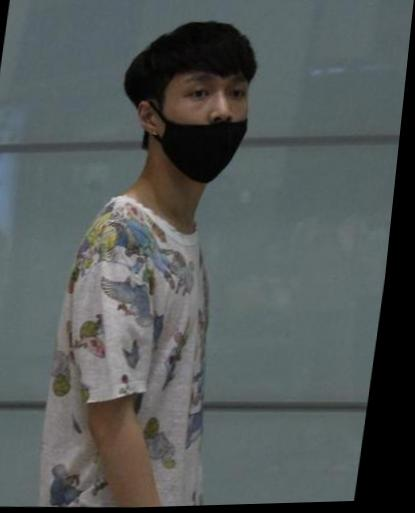WRONG: (155, 69, 259, 180)
